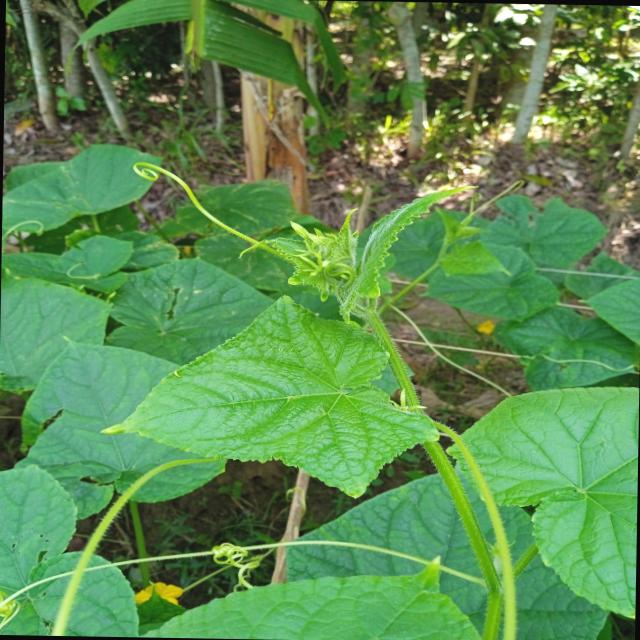cucumber_healthy: (100, 286, 446, 503), (444, 378, 639, 626), (19, 332, 232, 514), (145, 546, 493, 640), (0, 462, 141, 636), (2, 128, 168, 232), (434, 232, 560, 330)
